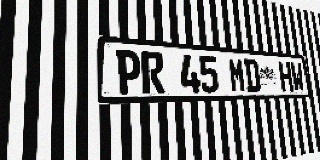4: (179, 54, 201, 93)
5: (199, 55, 219, 93)
D: (243, 59, 261, 92)
H: (278, 61, 294, 92)
M: (228, 57, 247, 93)
P: (116, 49, 141, 94)
R: (141, 51, 165, 94)
W: (290, 62, 305, 92)
